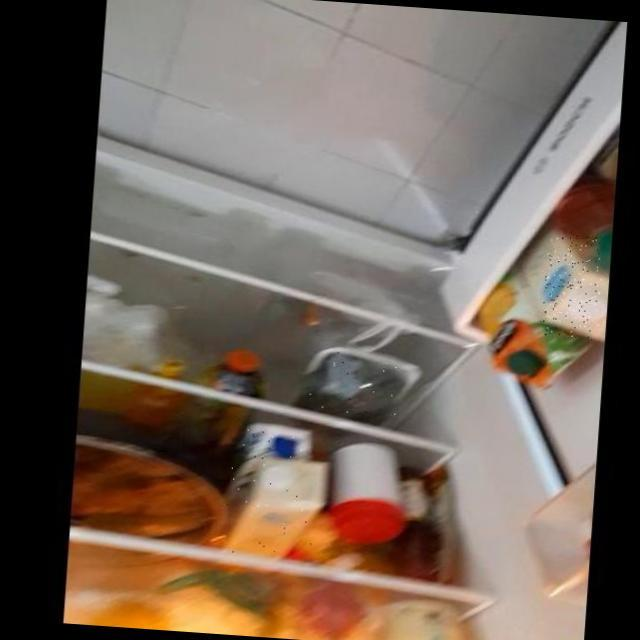Brocoli: (304, 347, 404, 416)
juice: (487, 278, 541, 391)
milk: (220, 427, 319, 557), (540, 233, 603, 338)
